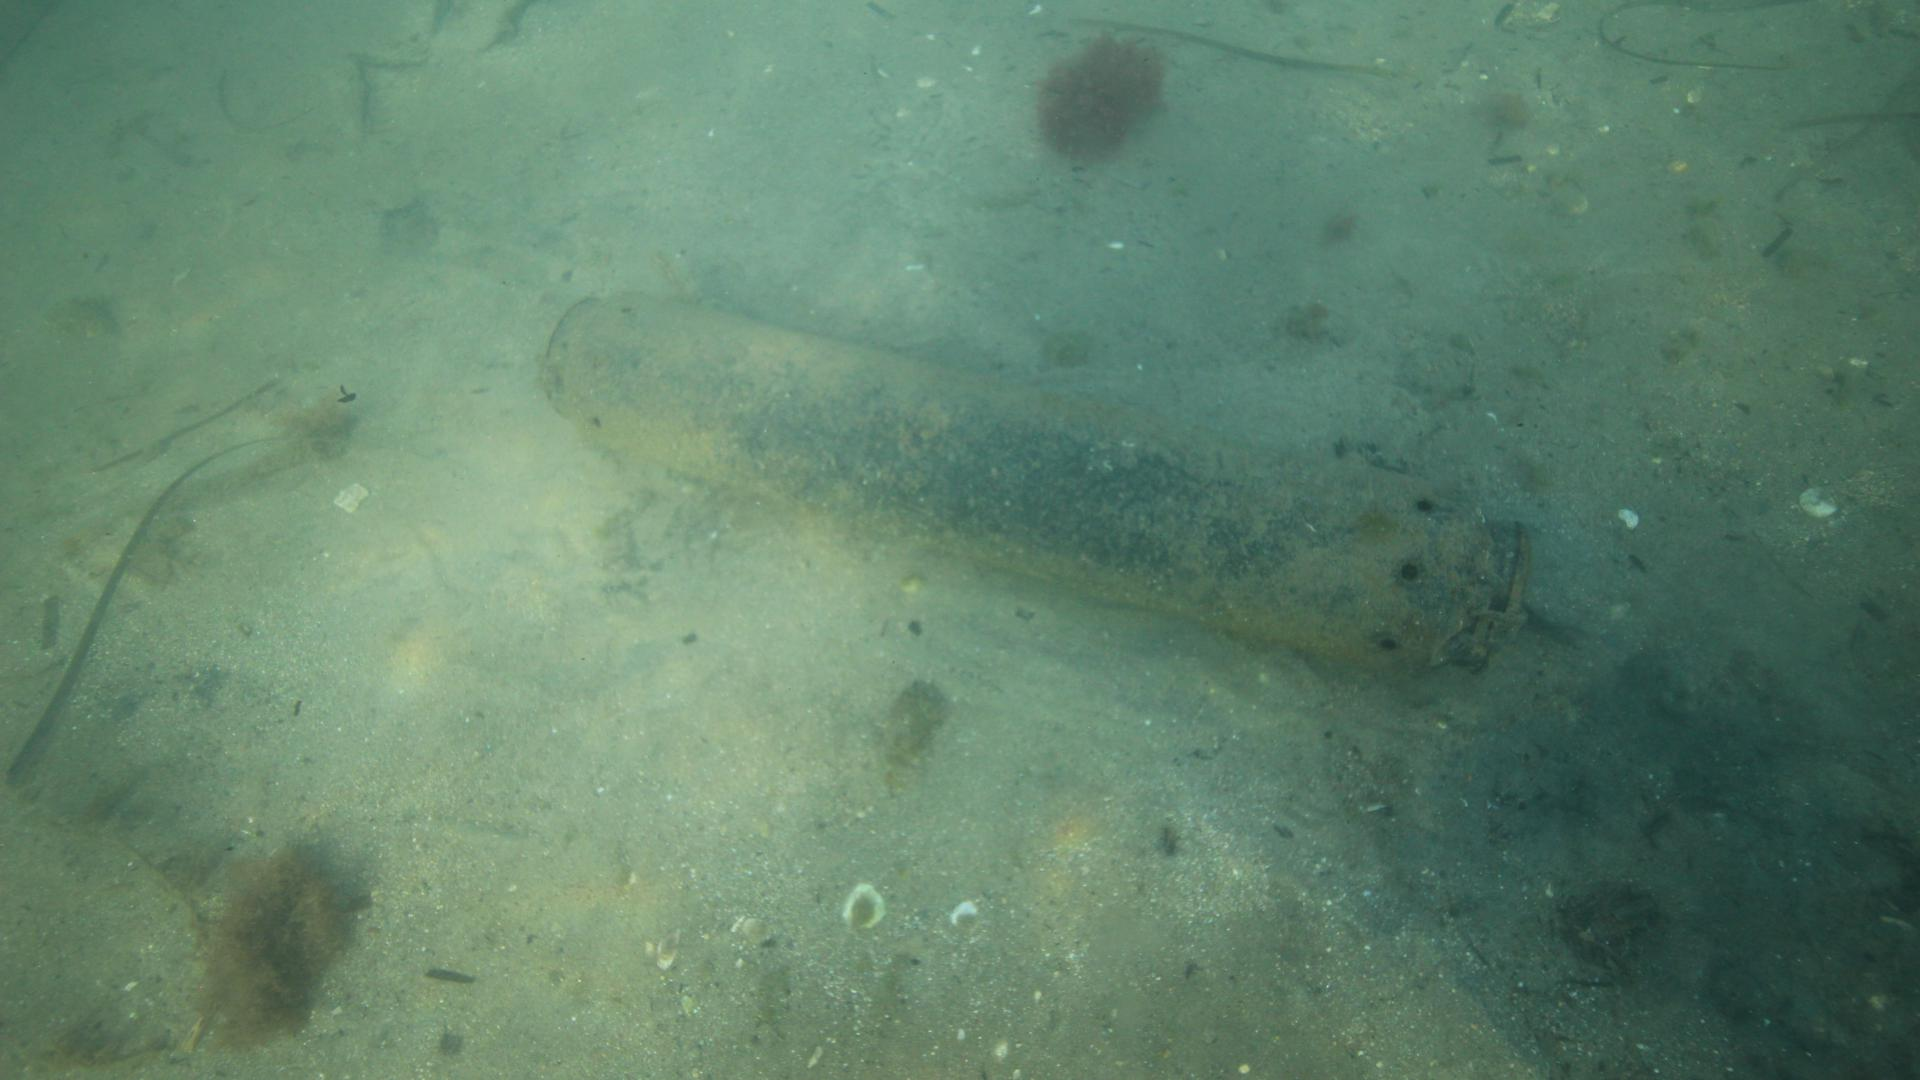eel fish trap: (533, 286, 1536, 680)
